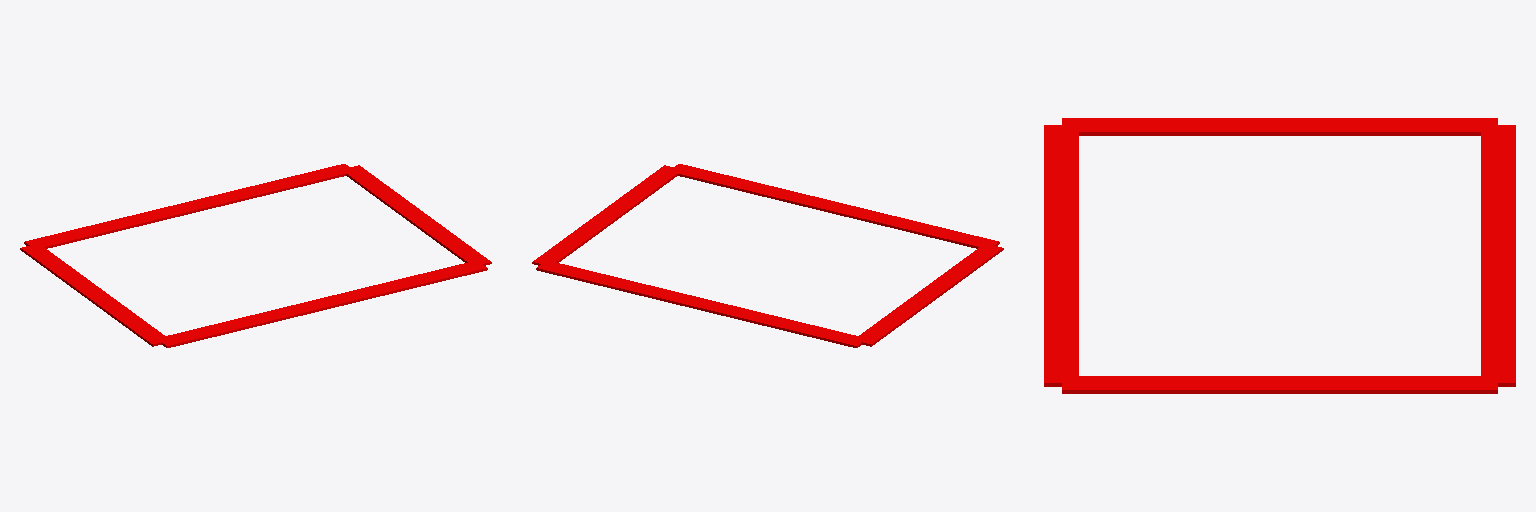
The robot description file, URDF, robot "parttoolgen_red_target_zone_014x010":
<?xml version="1.0"?>
<robot name="parttoolgen_red_target_zone_014x010">
  <material name="target_red">
    <color rgba="1.0 0.02 0.02 1.0"/>
  </material>

  <link name="zone_origin">
    <inertial>
      <origin xyz="0 0 0" rpy="0 0 0"/>
      <mass value="0.001"/>
      <inertia ixx="0.000001" ixy="0" ixz="0" iyy="0.000001" iyz="0" izz="0.000001"/>
    </inertial>
  </link>

  <link name="top_edge">
    <visual>
      <origin xyz="0 0 0" rpy="0 0 0"/>
      <geometry>
        <box size="0.14 0.008 0.001"/>
      </geometry>
      <material name="target_red"/>
    </visual>
    <inertial>
      <origin xyz="0 0 0" rpy="0 0 0"/>
      <mass value="0.001"/>
      <inertia ixx="0.000001" ixy="0" ixz="0" iyy="0.000001" iyz="0" izz="0.000001"/>
    </inertial>
  </link>
  <joint name="top_edge_fixed" type="fixed">
    <parent link="zone_origin"/>
    <child link="top_edge"/>
    <origin xyz="0 0.05 0" rpy="0 0 0"/>
  </joint>

  <link name="bottom_edge">
    <visual>
      <origin xyz="0 0 0" rpy="0 0 0"/>
      <geometry>
        <box size="0.14 0.008 0.001"/>
      </geometry>
      <material name="target_red"/>
    </visual>
    <inertial>
      <origin xyz="0 0 0" rpy="0 0 0"/>
      <mass value="0.001"/>
      <inertia ixx="0.000001" ixy="0" ixz="0" iyy="0.000001" iyz="0" izz="0.000001"/>
    </inertial>
  </link>
  <joint name="bottom_edge_fixed" type="fixed">
    <parent link="zone_origin"/>
    <child link="bottom_edge"/>
    <origin xyz="0 -0.05 0" rpy="0 0 0"/>
  </joint>

  <link name="left_edge">
    <visual>
      <origin xyz="0 0 0" rpy="0 0 0"/>
      <geometry>
        <box size="0.008 0.10 0.001"/>
      </geometry>
      <material name="target_red"/>
    </visual>
    <inertial>
      <origin xyz="0 0 0" rpy="0 0 0"/>
      <mass value="0.001"/>
      <inertia ixx="0.000001" ixy="0" ixz="0" iyy="0.000001" iyz="0" izz="0.000001"/>
    </inertial>
  </link>
  <joint name="left_edge_fixed" type="fixed">
    <parent link="zone_origin"/>
    <child link="left_edge"/>
    <origin xyz="-0.07 0 0" rpy="0 0 0"/>
  </joint>

  <link name="right_edge">
    <visual>
      <origin xyz="0 0 0" rpy="0 0 0"/>
      <geometry>
        <box size="0.008 0.10 0.001"/>
      </geometry>
      <material name="target_red"/>
    </visual>
    <inertial>
      <origin xyz="0 0 0" rpy="0 0 0"/>
      <mass value="0.001"/>
      <inertia ixx="0.000001" ixy="0" ixz="0" iyy="0.000001" iyz="0" izz="0.000001"/>
    </inertial>
  </link>
  <joint name="right_edge_fixed" type="fixed">
    <parent link="zone_origin"/>
    <child link="right_edge"/>
    <origin xyz="0.07 0 0" rpy="0 0 0"/>
  </joint>
</robot>

--- Render facts (derived) ---
Views: 3 orthographic renders of the robot side by side, from view 1: azimuth 30°, elevation 25°; view 2: azimuth 150°, elevation 25°; view 3: azimuth 270°, elevation 25°.
Robot: parttoolgen_red_target_zone_014x010 — 5 links, 4 joints (4 fixed); root link zone_origin; default pose: all joints at 0.
Visible links, largest first — view 1: bottom_edge, top_edge, left_edge, right_edge; view 2: top_edge, bottom_edge, left_edge, right_edge; view 3: top_edge, bottom_edge, right_edge, left_edge.
Boxes of the visible links, box(x1,y1,x2,y2) form: bottom_edge: box(158, 261, 487, 347); top_edge: box(24, 164, 352, 248); left_edge: box(20, 243, 169, 346); right_edge: box(341, 165, 491, 265); top_edge: box(536, 260, 866, 347); bottom_edge: box(669, 164, 999, 248); left_edge: box(855, 244, 1003, 346); right_edge: box(532, 165, 681, 265); top_edge: box(1481, 125, 1515, 386); bottom_edge: box(1044, 125, 1078, 386); right_edge: box(1062, 376, 1497, 393); left_edge: box(1062, 118, 1497, 135).
Size in the robot's own frame: 0.148 by 0.108 by 0.001 metres.
Geometry: primitives only (box / cylinder / sphere), no mesh files.
